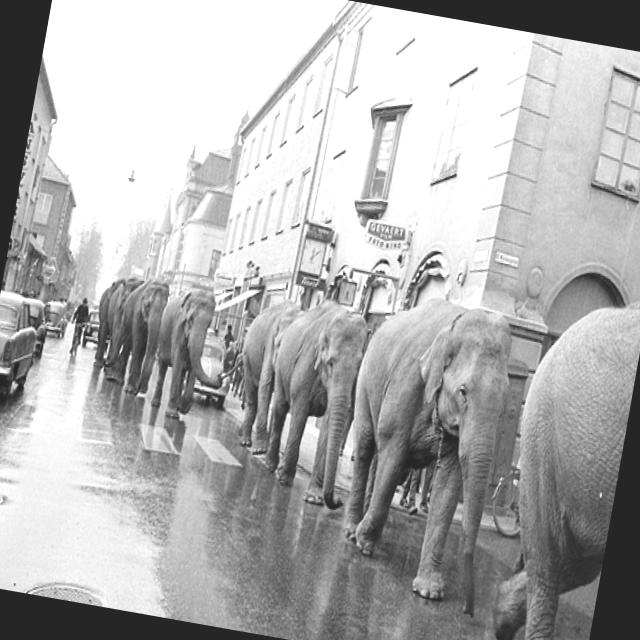Vehicle: (0, 292, 41, 401), (190, 328, 237, 408), (18, 298, 52, 354), (80, 309, 114, 353), (39, 300, 71, 340), (56, 295, 76, 316)
